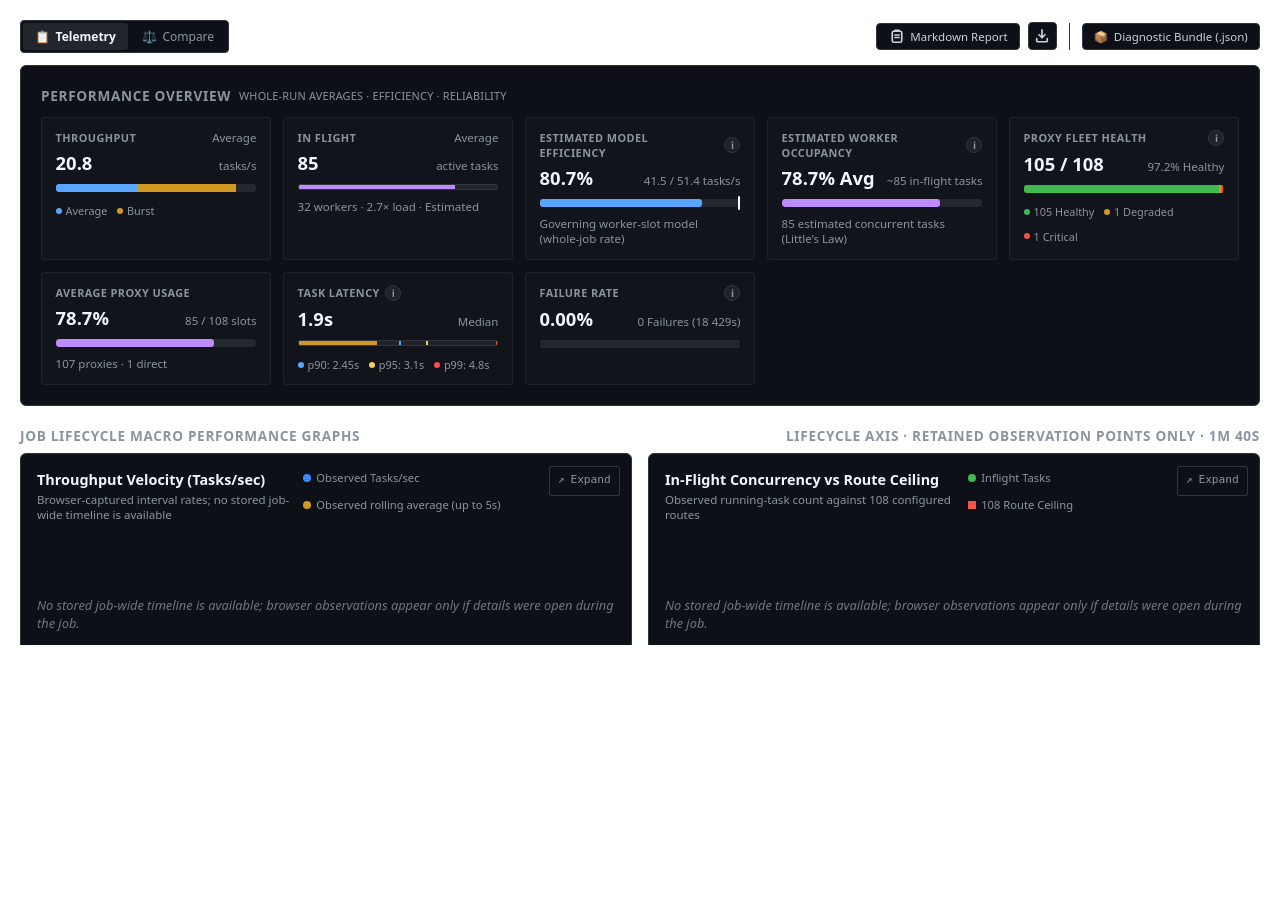
Test: JobDiagnosticsReport › renders empty historical jobs state when all historical jobs are running
This screenshot has width=1280, height=900.
Click the button "⚖️ Compare".
click(178, 36)  # box top-left (130, 23), bottom-right (226, 50)
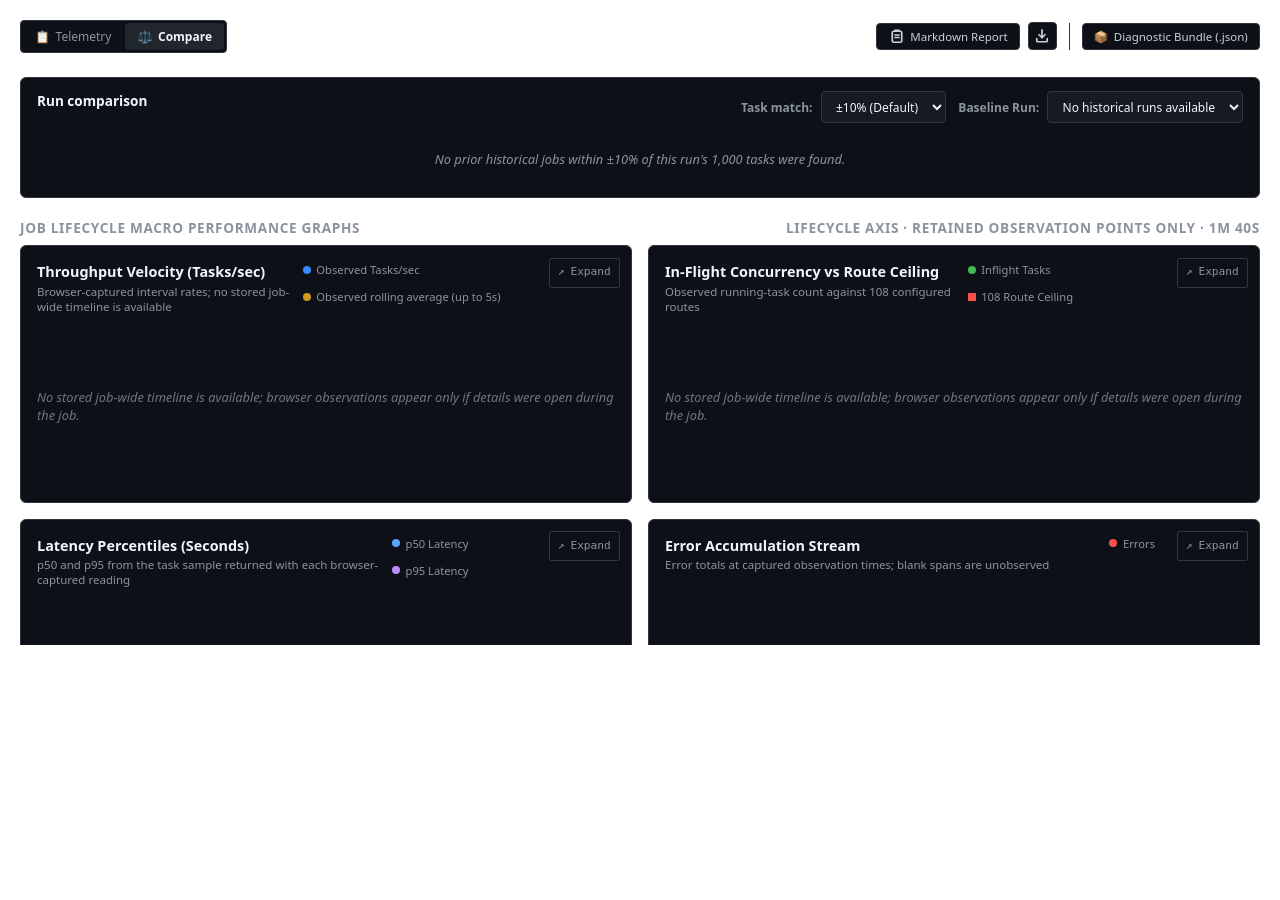
expect the dropdown named "Select baseline historical run for comparison" shows "No historical runs available": met, box top-left (1047, 91), bottom-right (1243, 123)
